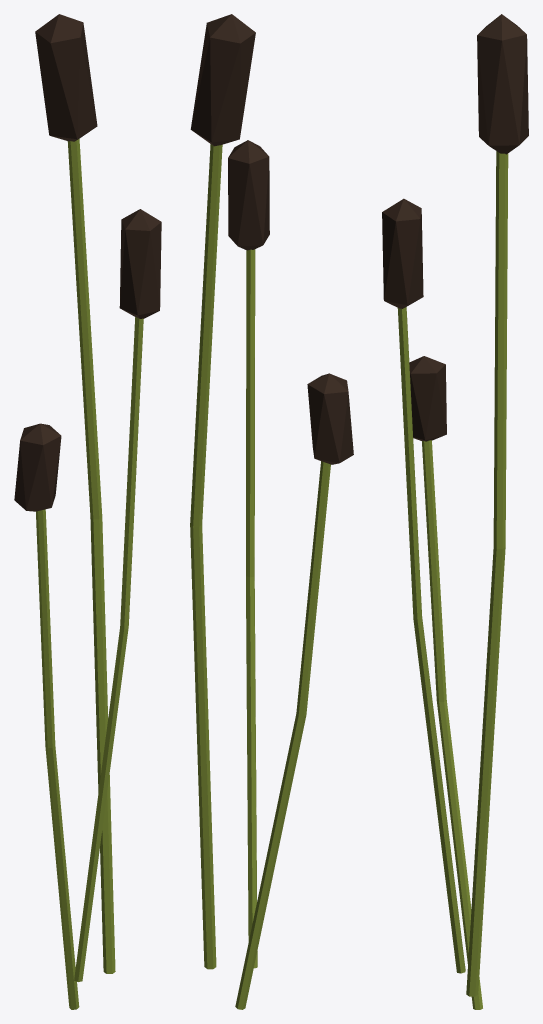
Rendered from island_cattail.fbx.
The picture shows the model from 3 angles, left to right: view 1: azimuth 30°, elevation 25°; view 2: azimuth 150°, elevation 25°; view 3: azimuth 270°, elevation 25°; orthographic projection.
Parts seen in each view (by area): view 1: Cylinder.003; view 2: Cylinder.003; view 3: Cylinder.003.
Boxes of the visible parts, bbox=[...] form: Cylinder.003: bbox=[14, 14, 161, 1009]; Cylinder.003: bbox=[190, 14, 353, 1009]; Cylinder.003: bbox=[382, 14, 528, 1009].
Size of the model in its own units: 0.2873 by 2.13 by 0.2857.
